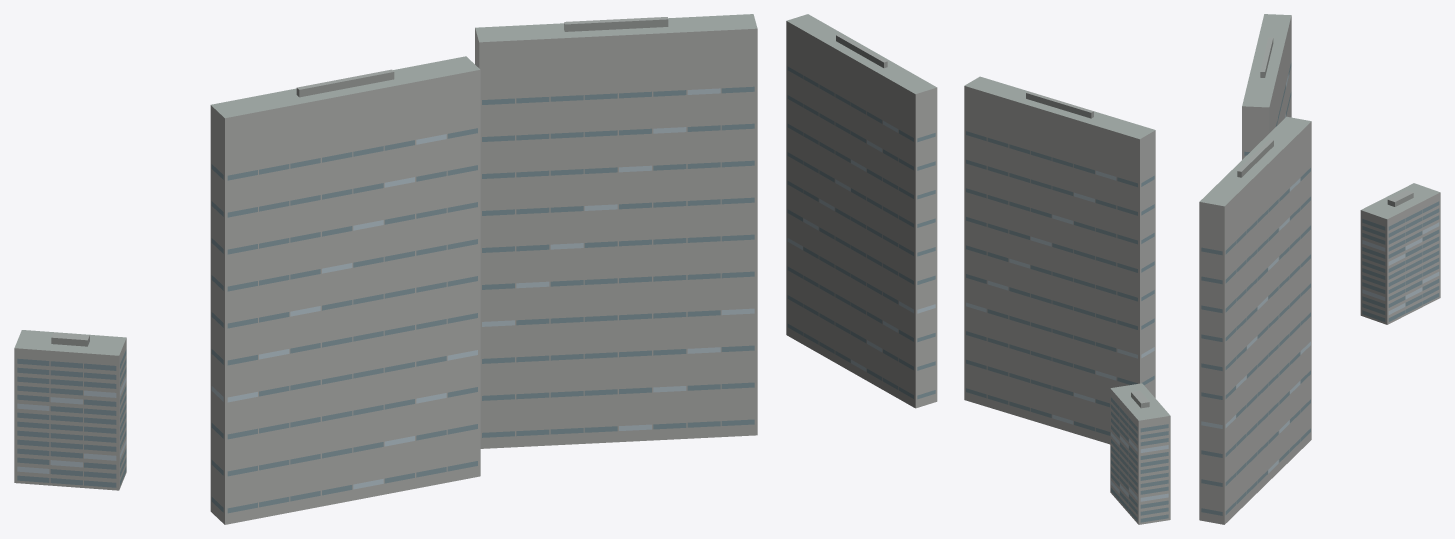
The model's file is apt-a13610004.glb.
The picture shows the model from 3 angles, left to right: view 1: azimuth 30°, elevation 25°; view 2: azimuth 150°, elevation 25°; view 3: azimuth 270°, elevation 25°; orthographic projection. The views are drawn at different scales.
Parts seen in each view (by area): view 1: apt-a13610004; view 2: apt-a13610004; view 3: apt-a13610004.
Part boxes in pixels (x1=…): apt-a13610004: x1=14, y1=14, x2=757, y2=524; apt-a13610004: x1=786, y1=14, x2=1170, y2=524; apt-a13610004: x1=1199, y1=14, x2=1440, y2=524.
Size of the model in its own units: 206 by 132 by 88.9.
